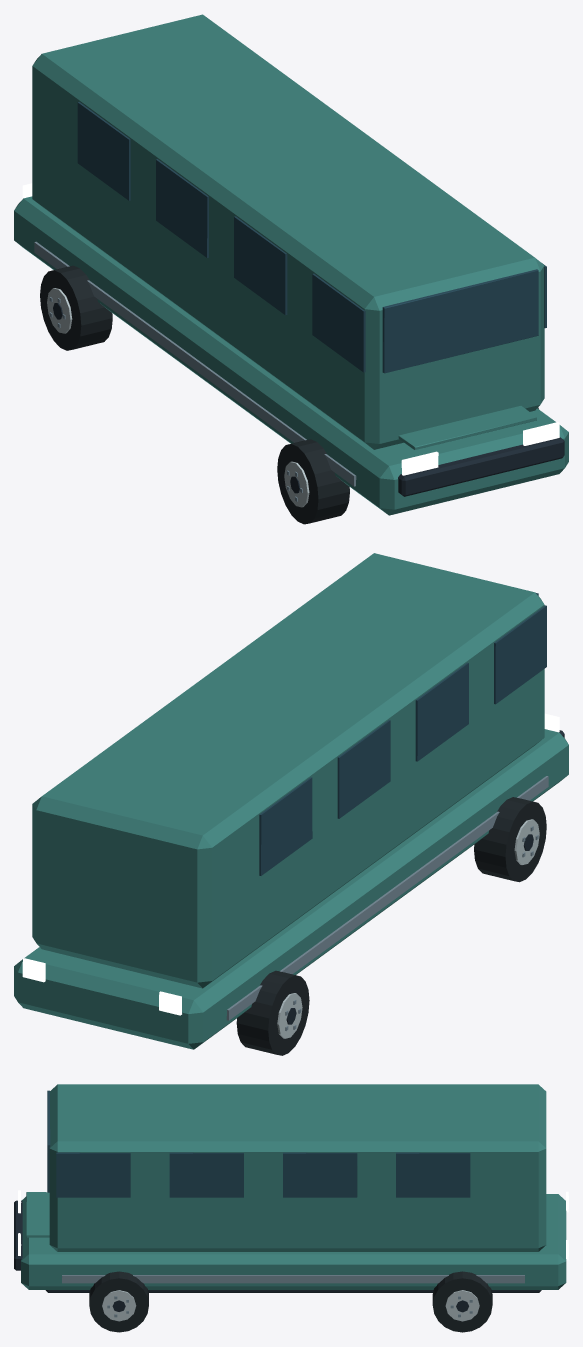
Rendered from road-minibus.lod1.glb.
3 views of the same model, one above another, from view 1: azimuth 30°, elevation 25°; view 2: azimuth 150°, elevation 25°; view 3: azimuth 270°, elevation 25° (orthographic). The views are drawn at different scales.
Parts seen in each view (by area): view 1: road-minibus__body, road-minibus__wheel_steer_1_l, road-minibus__wheel_steer_0_l; view 2: road-minibus__body, road-minibus__wheel_steer_1_l, road-minibus__wheel_steer_0_l; view 3: road-minibus__body, road-minibus__wheel_steer_1_r, road-minibus__wheel_steer_0_r.
Boxes of the visible parts, <box> form: road-minibus__body: <box>14,14,568,515</box>; road-minibus__wheel_steer_1_l: <box>40,265,112,350</box>; road-minibus__wheel_steer_0_l: <box>277,439,349,524</box>; road-minibus__body: <box>14,553,568,1049</box>; road-minibus__wheel_steer_1_l: <box>236,970,309,1055</box>; road-minibus__wheel_steer_0_l: <box>474,797,546,882</box>; road-minibus__body: <box>14,1084,568,1292</box>; road-minibus__wheel_steer_1_r: <box>432,1271,492,1332</box>; road-minibus__wheel_steer_0_r: <box>89,1271,148,1332</box>.
Size of the model in its own units: 2.25 by 2.25 by 6.31.
